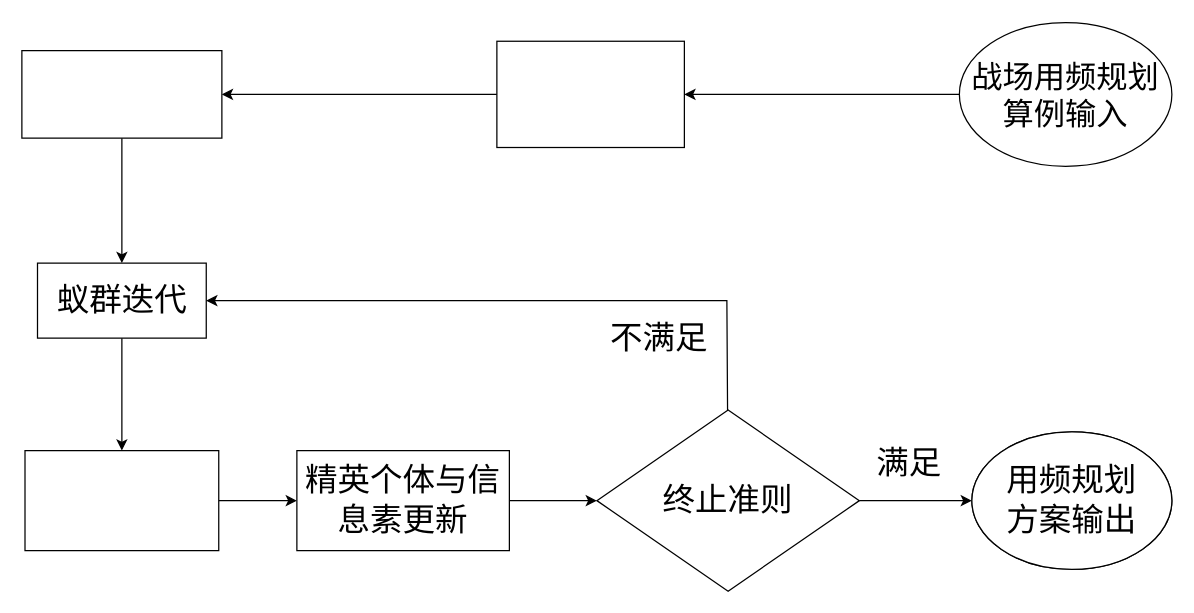
This 1194x613 diagram has some shape labels left out. Here are the shapes that lost their labels. From the top down, the centre of each, then its label:
[121,93]: 蚁群初始化
[590,94]: 用频装备的聚类操作
[121,500]: 用频规划方案调整改进
